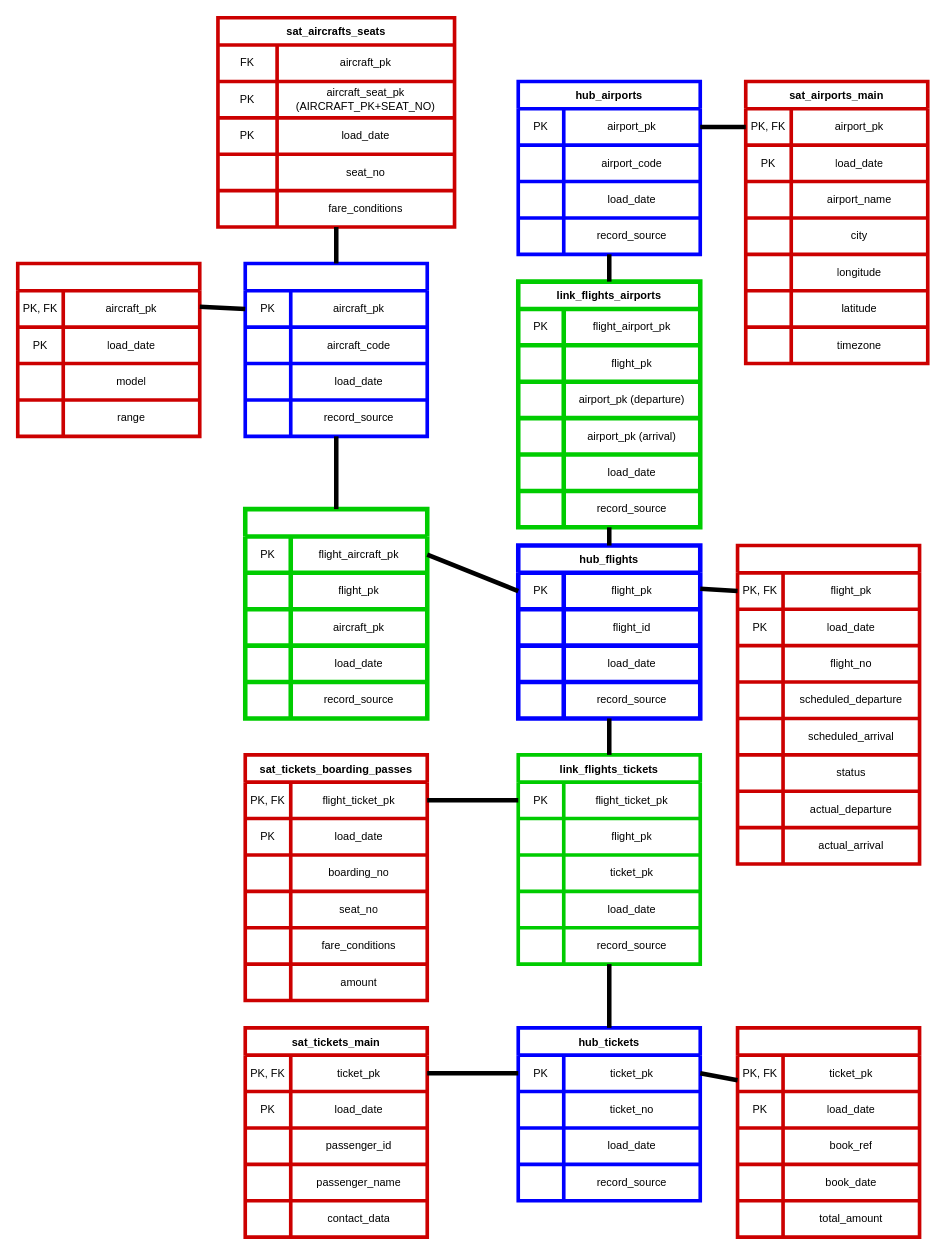
This 945x1254 diagram has some shape labels left out. Each missing label, with the box of its shape:
hub_aircrafts: (243, 261, 429, 438)
link_flights_aircrafts: (243, 506, 429, 720)
sat_aircrafts_main: (15, 261, 201, 438)
sat_flights_main: (735, 543, 921, 865)
sat_tickets_bookings: (735, 1026, 921, 1239)
